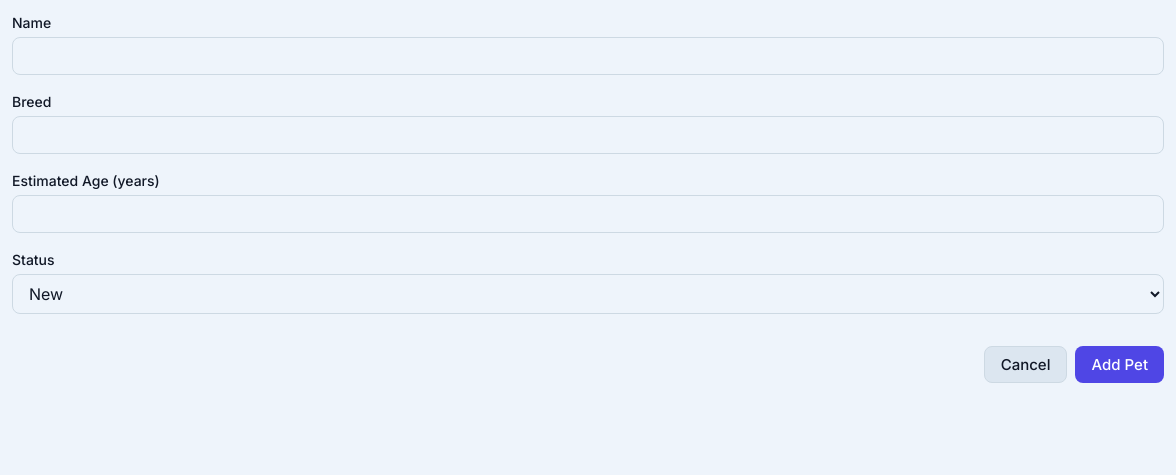
Test: PetForm › shows validation errors for empty required fields
The image size is (1176, 475).
Click the button "Add Pet": [1120, 364] box [1076, 346, 1164, 383]
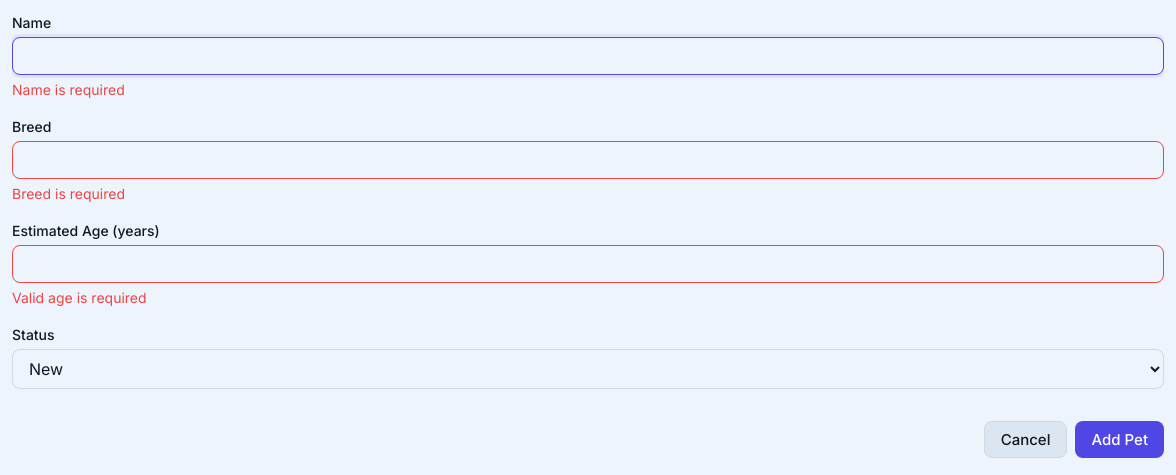
Expected: the message "Name is required" is shown, [12, 81, 125, 98]
